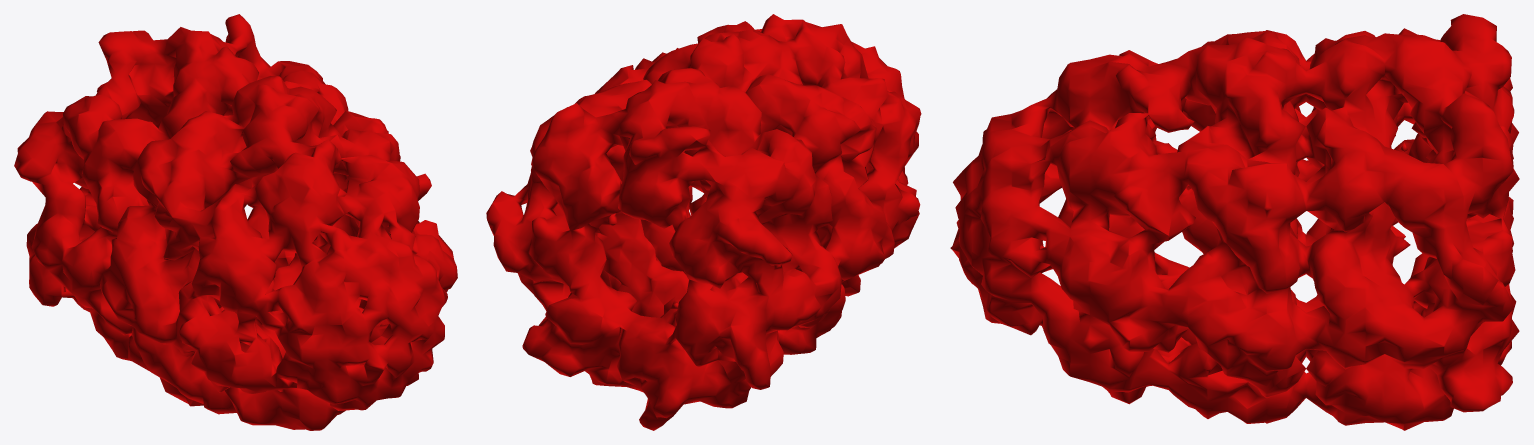
File: CoarseMS_1aon.fbx
3 renders of one model, left to right at view 1: azimuth 30°, elevation 25°; view 2: azimuth 150°, elevation 25°; view 3: azimuth 270°, elevation 25°, orthographic. The views are drawn at different scales.
Parts seen in each view (by area): view 1: CoarseMS_1aon_Mesh; view 2: CoarseMS_1aon_Mesh; view 3: CoarseMS_1aon_Mesh.
Boxes of the visible parts, x1=… form: CoarseMS_1aon_Mesh: x1=14, y1=14, x2=457, y2=430; CoarseMS_1aon_Mesh: x1=486, y1=14, x2=921, y2=430; CoarseMS_1aon_Mesh: x1=950, y1=14, x2=1519, y2=430.
Bounding box in the file's own units: 140 × 143 × 196.
